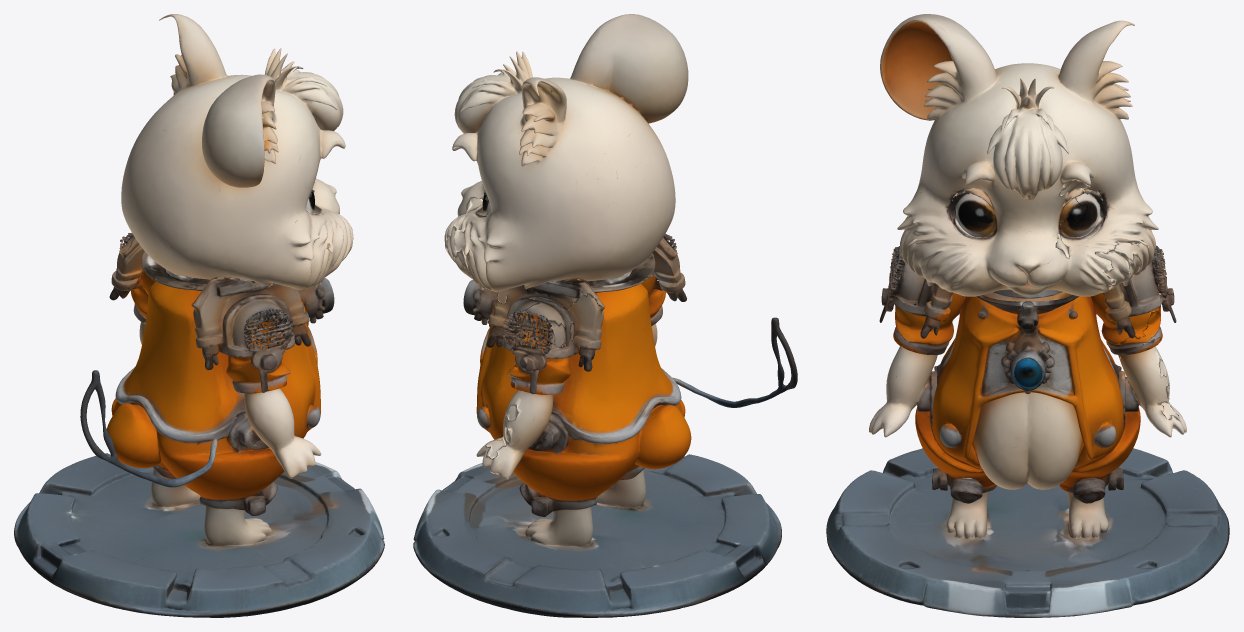
Rendered from Fan3cy_00351.glb.
3 renders of one model, left to right at view 1: azimuth 30°, elevation 25°; view 2: azimuth 150°, elevation 25°; view 3: azimuth 270°, elevation 25°, orthographic. The views are drawn at different scales.
Parts seen in each view (by area): view 1: world; view 2: world; view 3: world.
Boxes of the visible parts, x1,y1,x2,y2 form: world: (14, 14, 384, 617); world: (413, 14, 797, 617); world: (826, 14, 1229, 617).
Size of the model in its own units: 0.6737 by 0.9995 by 0.6895.
1 material, 1 textured.
